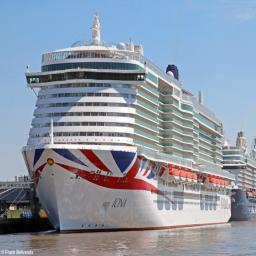cruises: (19, 8, 237, 237)
